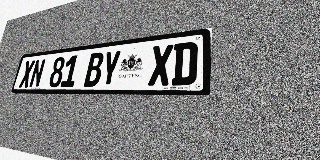1: (60, 55, 80, 87)
8: (48, 56, 67, 87)
B: (83, 52, 105, 87)
D: (171, 41, 198, 85)
N: (28, 59, 46, 88)
X: (148, 44, 173, 86), (19, 60, 35, 88)
Y: (99, 50, 122, 87)
